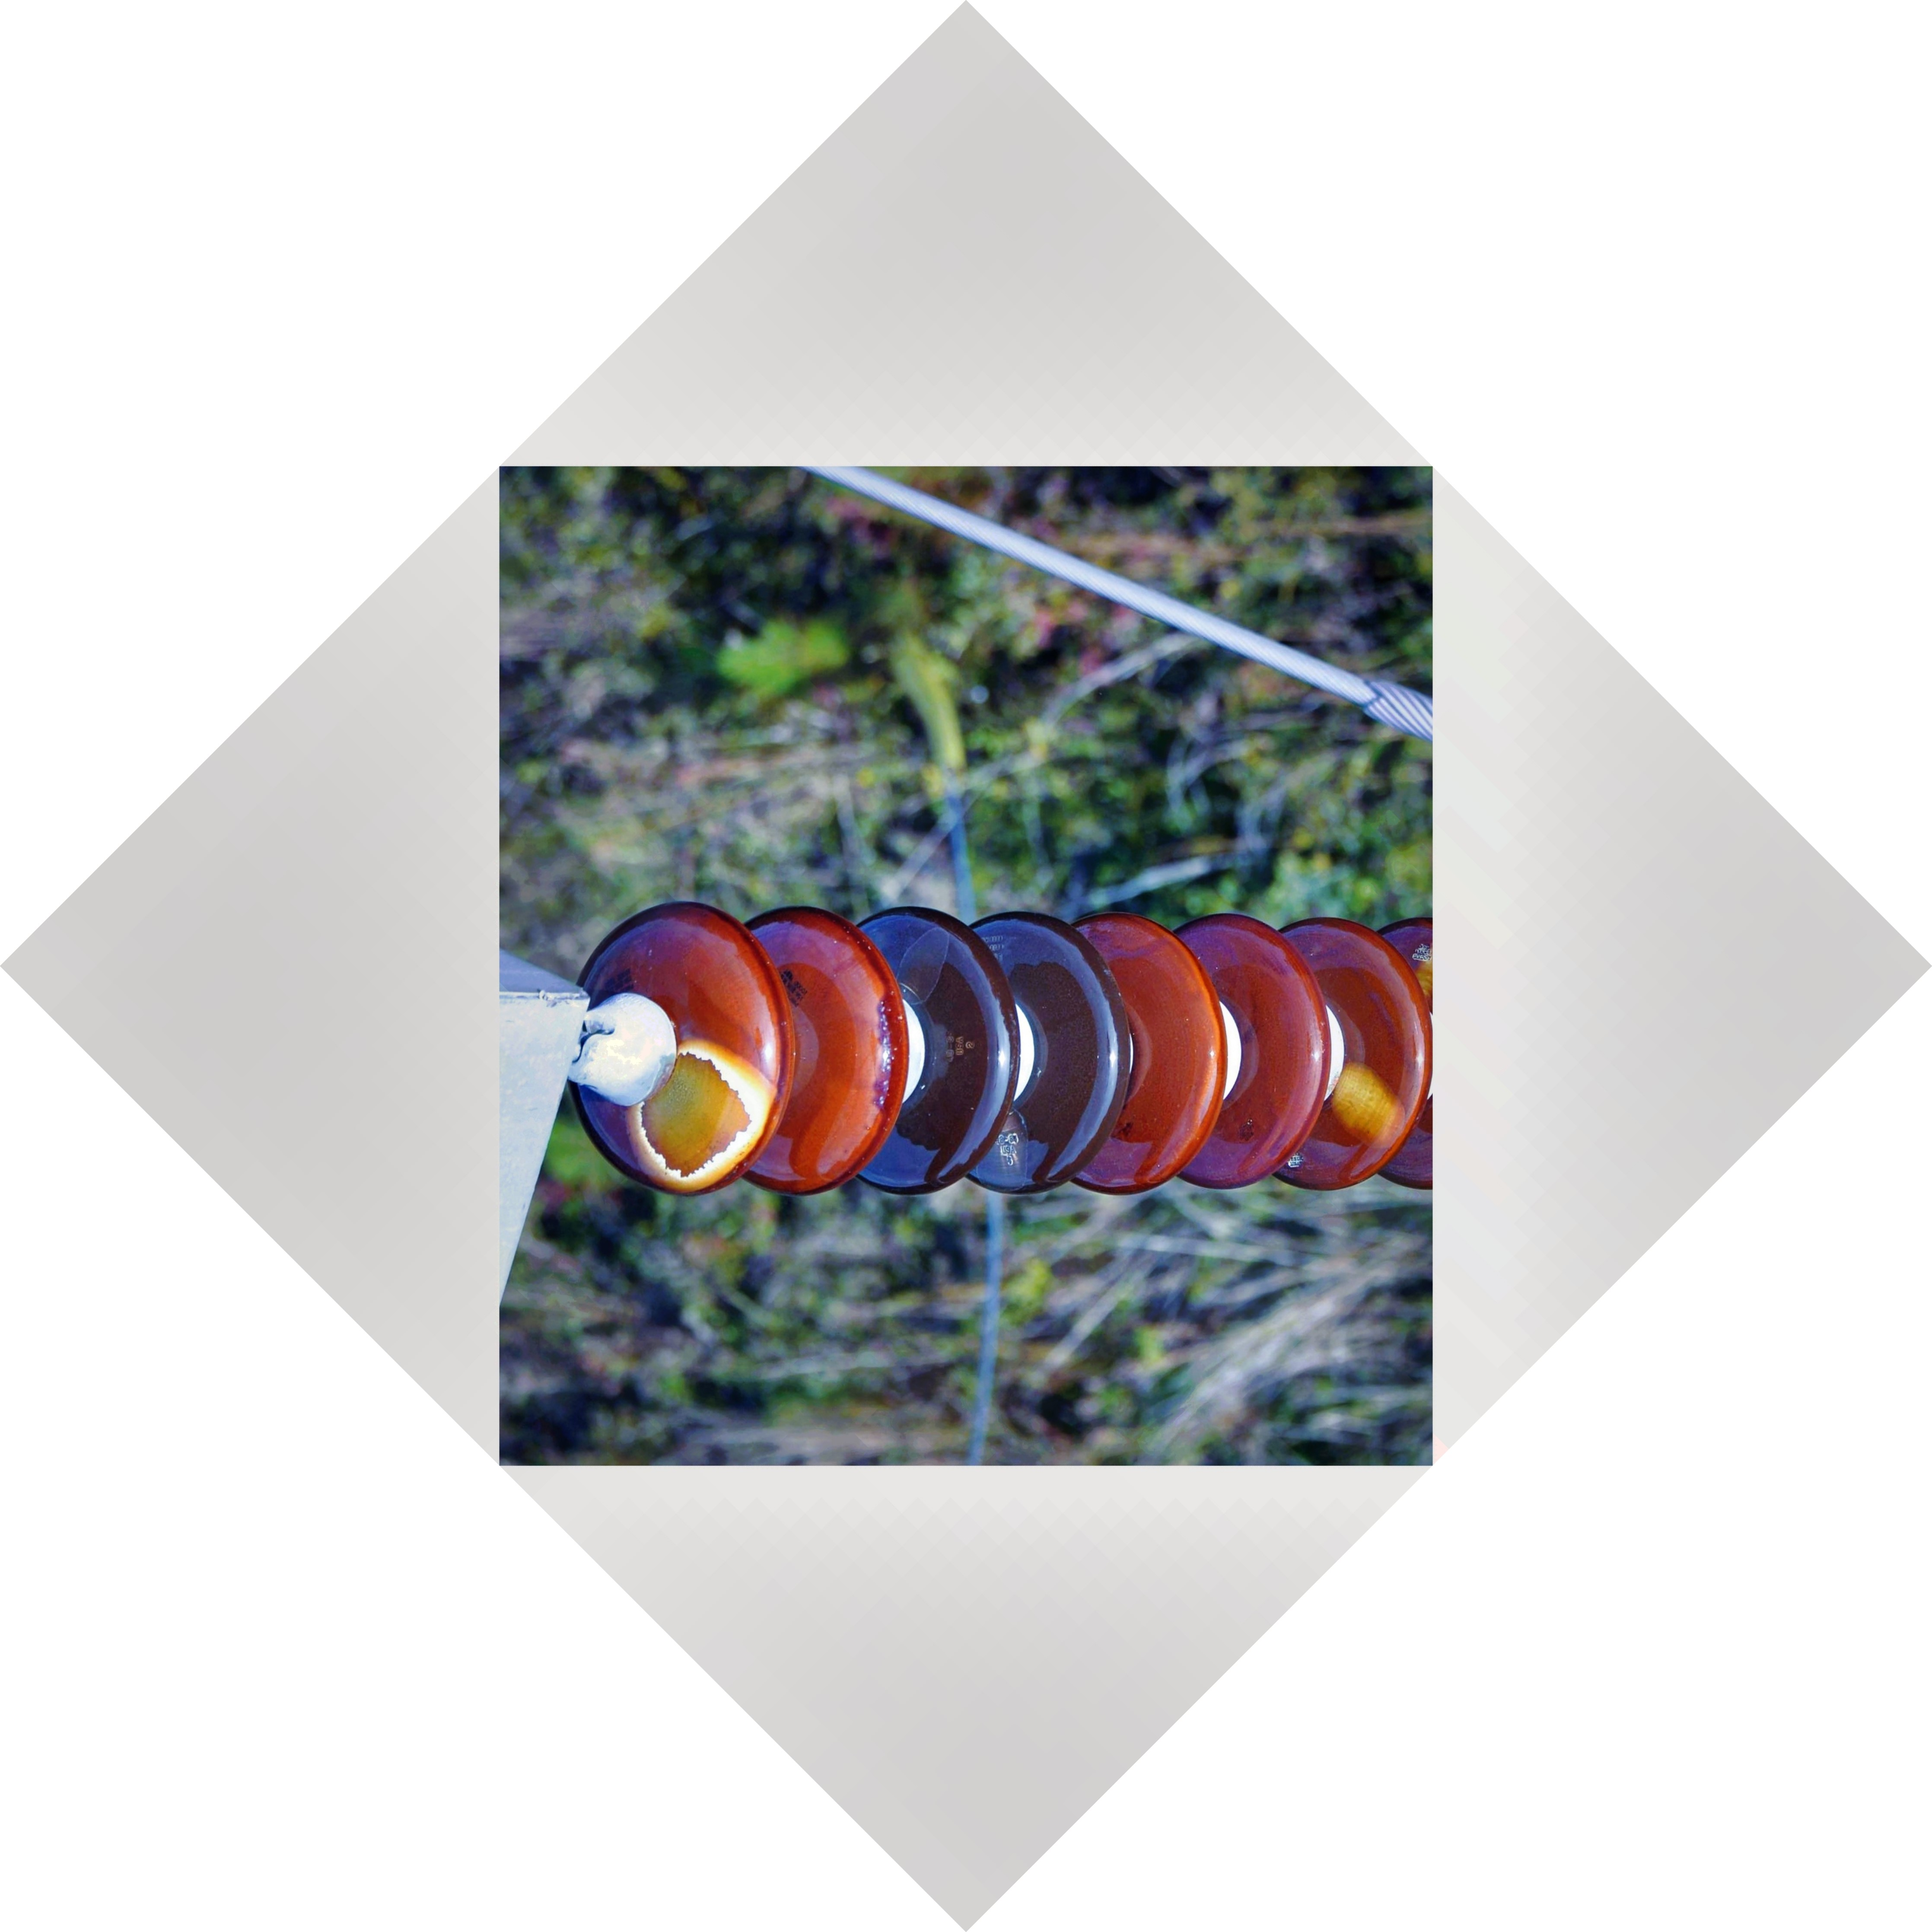Insulator flashover: (568, 883, 800, 1214)
